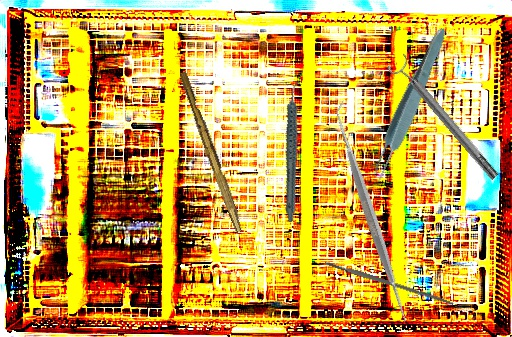Fixation Ring: (385, 51, 505, 187)
Handpiece: (258, 80, 330, 223)
Scalpel Handle: (175, 70, 248, 234), (324, 259, 455, 307)
Spatula Surgical: (254, 99, 488, 333)
Tissue Forceps: (364, 23, 453, 187)
